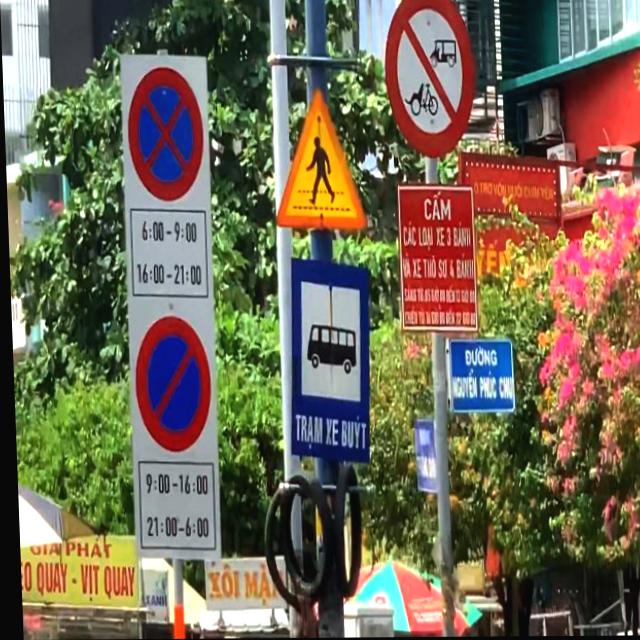Cam do xe: (131, 300, 210, 449)
Cam dung xe va do xe: (121, 60, 210, 210)
Nguoi di bo cat ngang: (264, 82, 371, 244)
